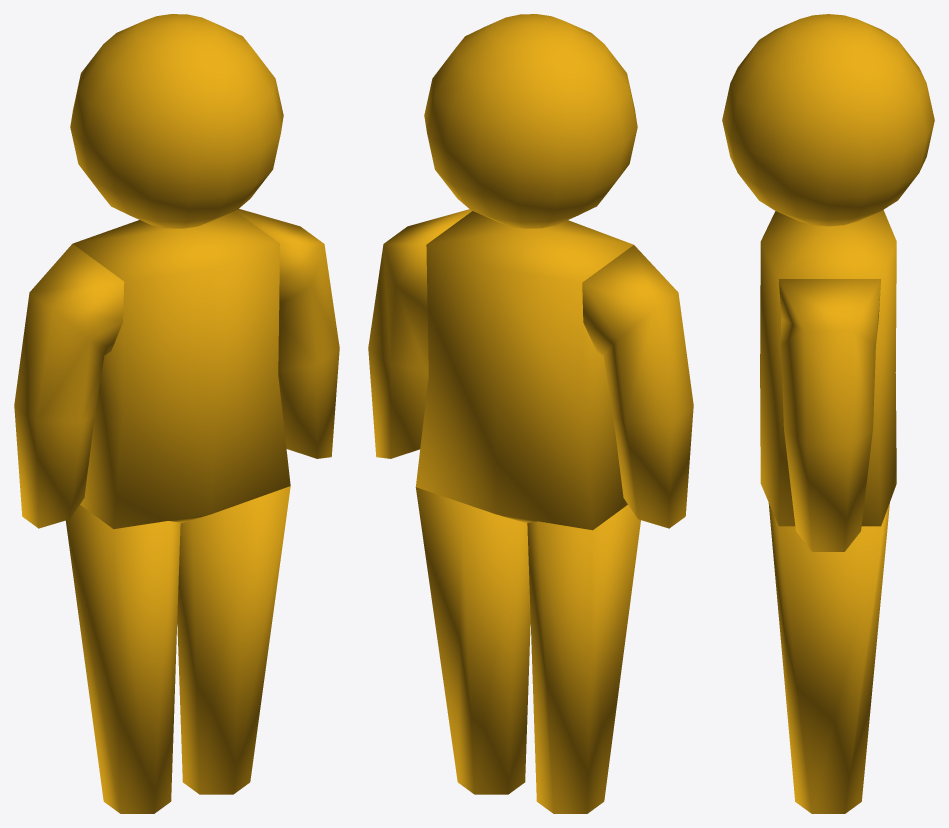
The model's file is player.glb.
3 views of the same model, side by side, from view 1: azimuth 30°, elevation 25°; view 2: azimuth 150°, elevation 25°; view 3: azimuth 270°, elevation 25° (orthographic).
Parts seen in each view (by area): view 1: Sphere.001, Cylinder.001, Sphere, Cylinder; view 2: Sphere.001, Cylinder.001, Sphere, Cylinder; view 3: Sphere, Cylinder.001, Cylinder, Sphere.001.
Part boxes in pixels (left/top/right/bottom): Sphere.001: left=73, top=211, right=290, bottom=529; Cylinder.001: left=66, top=486, right=290, bottom=813; Sphere: left=70, top=14, right=283, bottom=228; Cylinder: left=14, top=209, right=339, bottom=528; Sphere.001: left=416, top=211, right=633, bottom=530; Cylinder.001: left=415, top=487, right=640, bottom=813; Sphere: left=424, top=14, right=637, bottom=228; Cylinder: left=368, top=209, right=693, bottom=528; Sphere: left=722, top=14, right=934, bottom=226; Cylinder.001: left=768, top=503, right=889, bottom=813; Cylinder: left=778, top=279, right=880, bottom=551; Sphere.001: left=760, top=210, right=896, bottom=526.
Bounding box in the file's own units: 1.11 × 2.68 × 0.6808.
